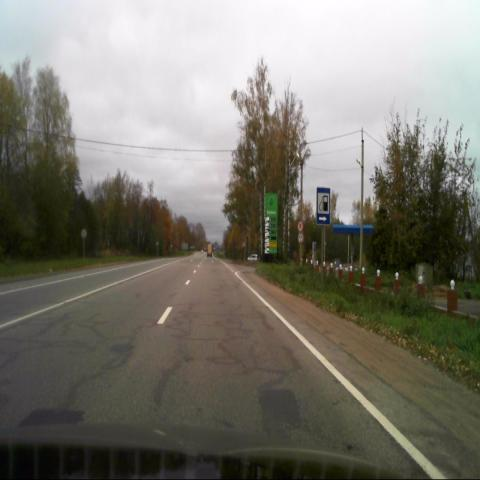7_3: (316, 186, 330, 225)
